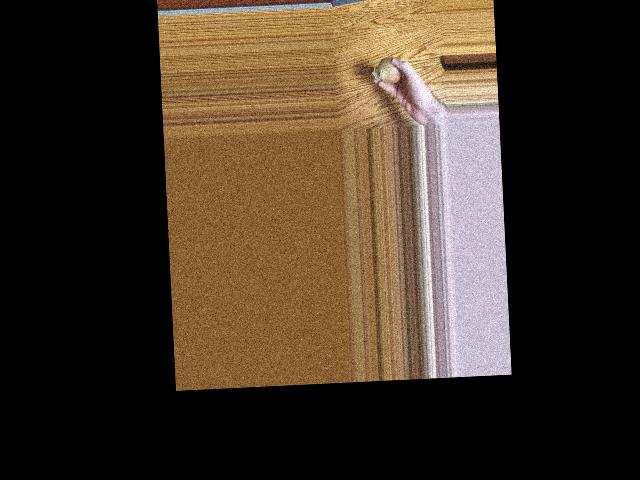onion: (376, 56, 403, 83)
